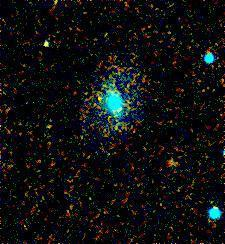star: (84, 85, 114, 115)
